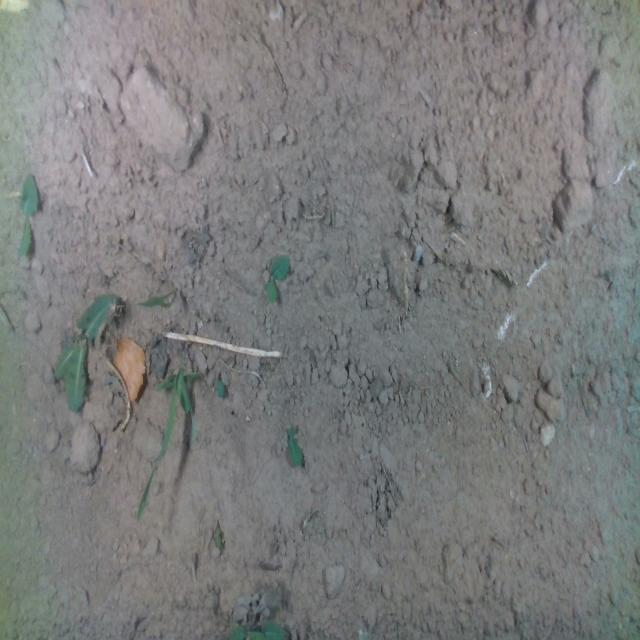weed: (264, 252, 290, 304)
